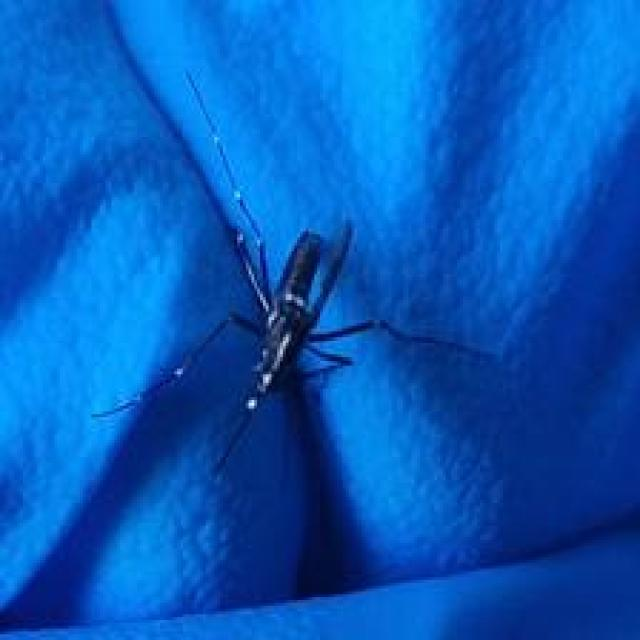Aedes albopictus: (90, 68, 501, 483)
